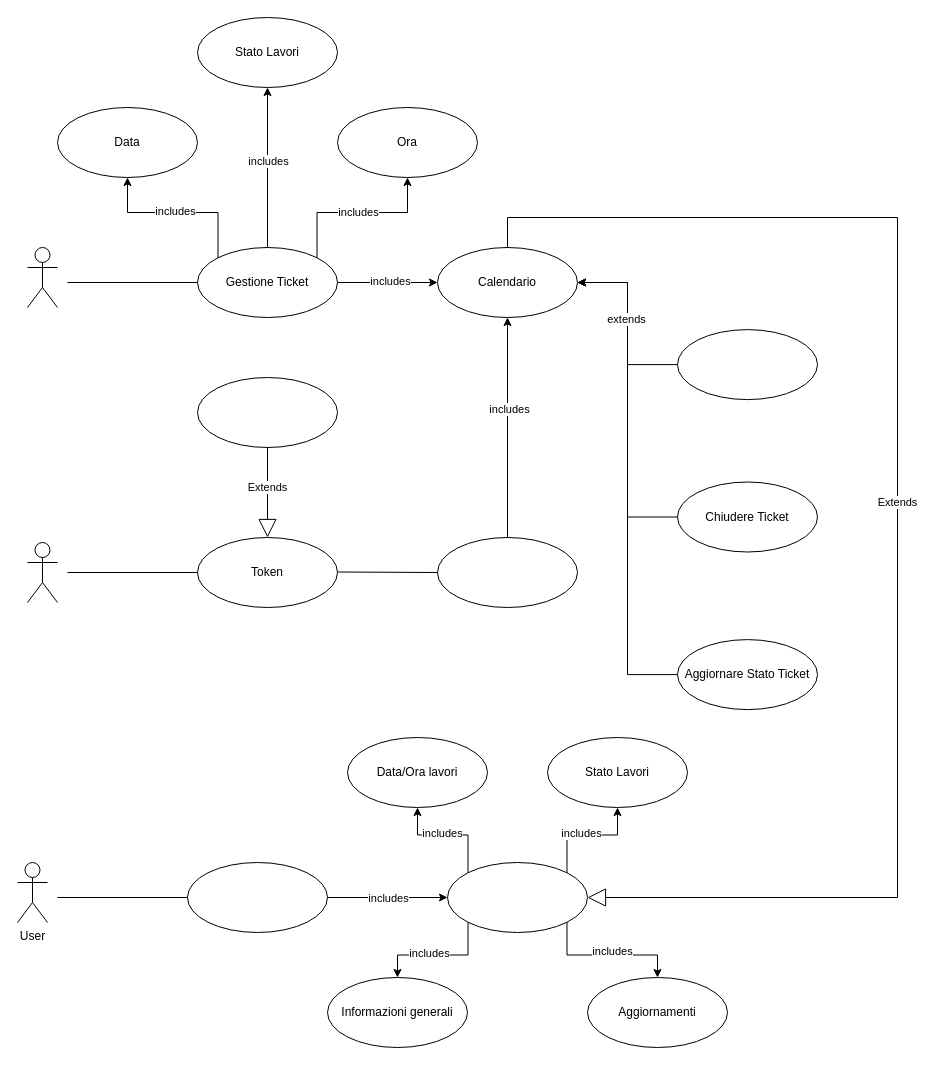
The diagram is 935 pixels wide and 1065 high, and some of its shapes have lost their labels. The centre of each missing label's shape, as x and y in pixels:
"Accede" belongs at (507,572).
"Aggiungere Aggiornamenti" belongs at (747,364).
"Operaio" belongs at (42,572).
"Sistema" belongs at (267,412).
"Tecnico" belongs at (42,277).
"Ticket Creati/Seguiti" belongs at (257,897).
"Visualizza" belongs at (517,897).
